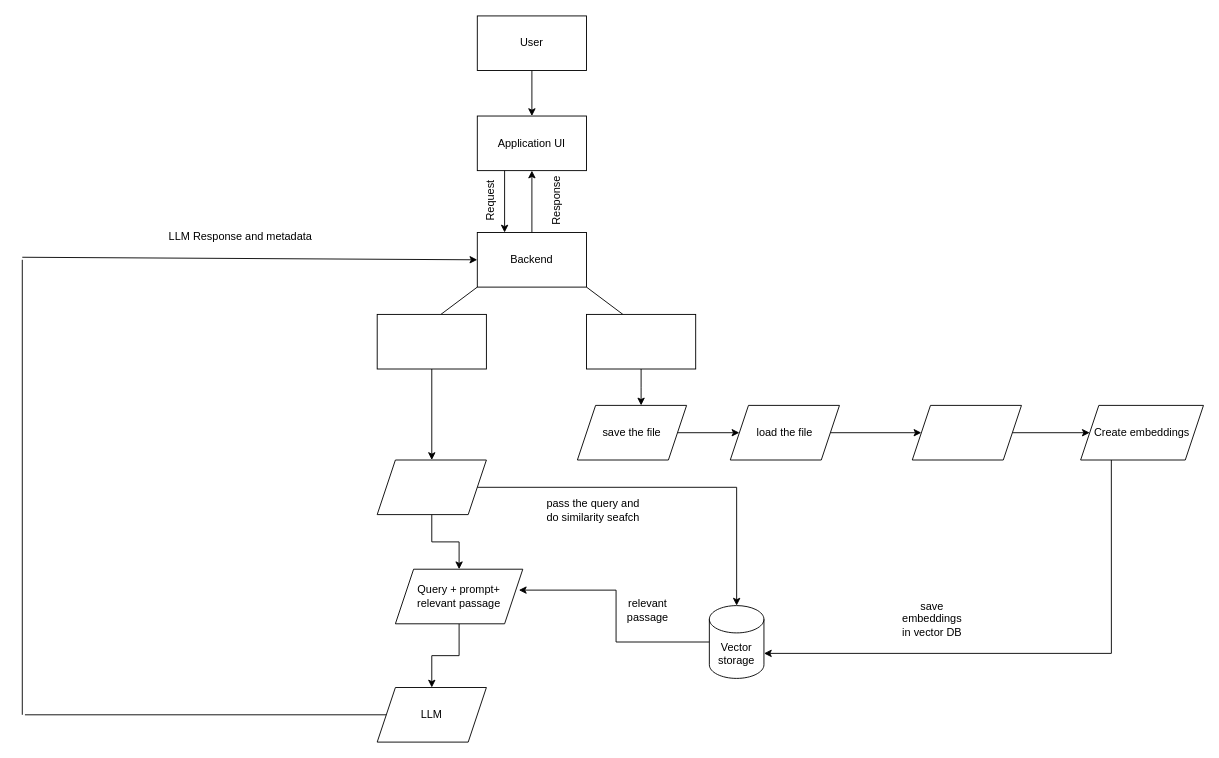
This 1219x758 diagram has some shape labels left out. Each missing label, with the centre of its shape:
File upload: the point at 641,341
RAG: the point at 431,487
Turn it into chunks: the point at 966,432
user query request: the point at 431,341
